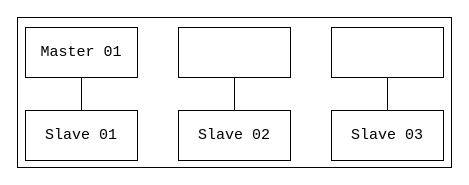
Image size: 469x185. Some labels were removed from this diagram. The shapes that lost their labels are listed below. From the top down, each one's centre as x and y in pixels, then its label:
the point at 234,52: Master 02
the point at 387,52: Master 03
